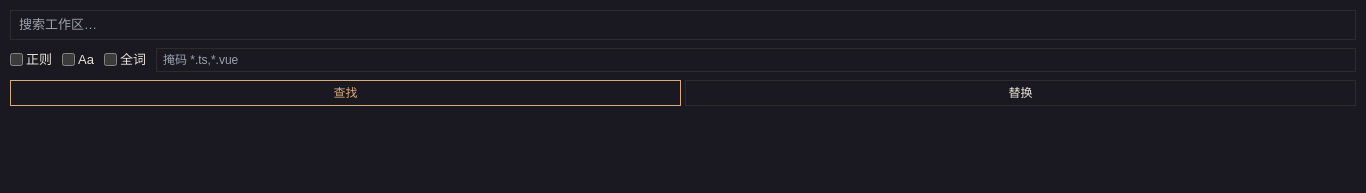
Scenario: SearchPanel 搜索模式 › 竞态：旧请求返回时被丢弃
The image size is (1366, 193).
Type "foo" into the field with class "search-input" at (683,25), box [10,10,1356,40]
Wait 300 ms
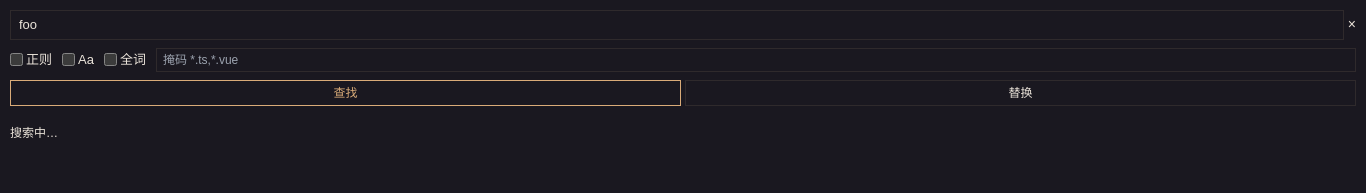
Replace the text in the field with class "search-input" with "foobar" at (677,25), box [10,10,1344,40]
Wait 300 ms
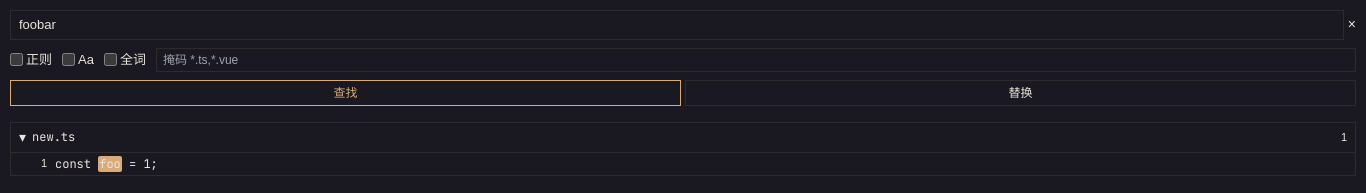
Check: the text "new.ts" is shown, box [32,129,75,145]
